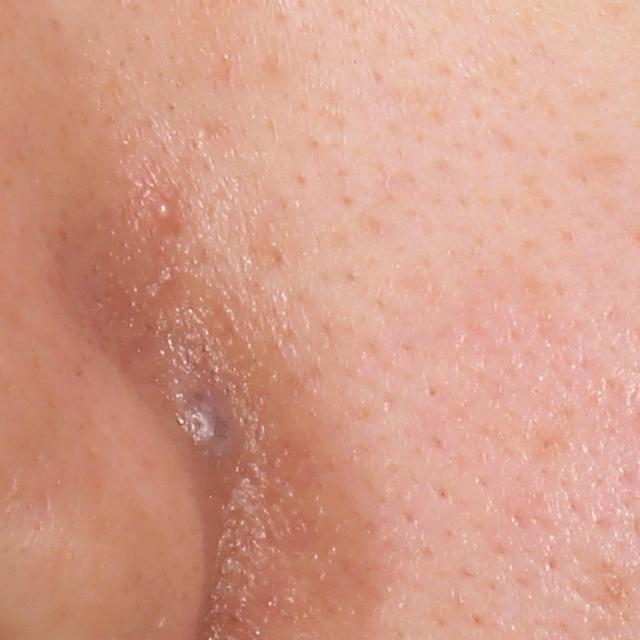other: (162, 359, 252, 460)
pustule: (154, 196, 179, 229)
